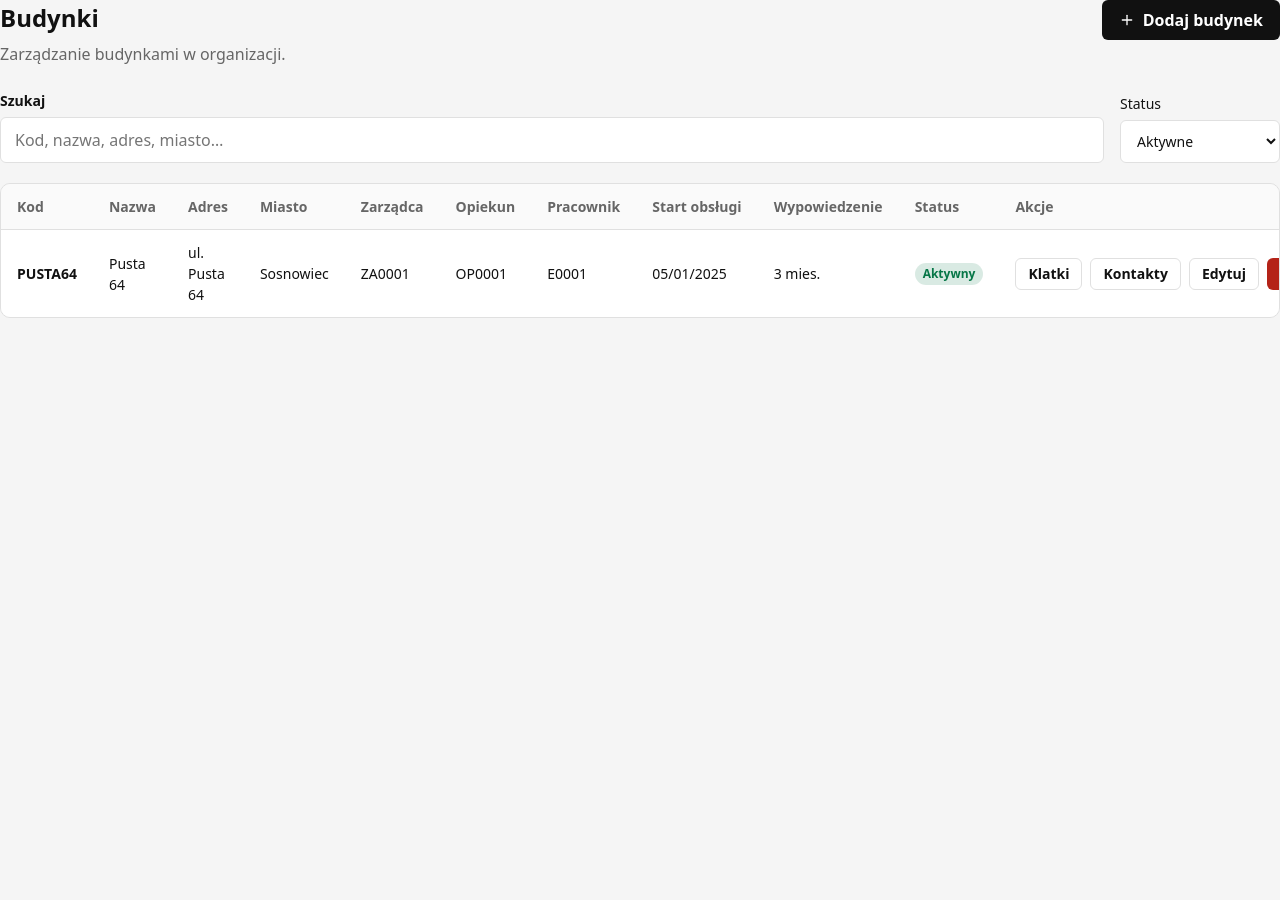
Test: BuildingsPage › validates create form required fields
Expected: the text "PUSTA64" is shown, [1,230,93,317]
Click the button "Dodaj budynek": (1191, 20) [1102,0,1279,40]
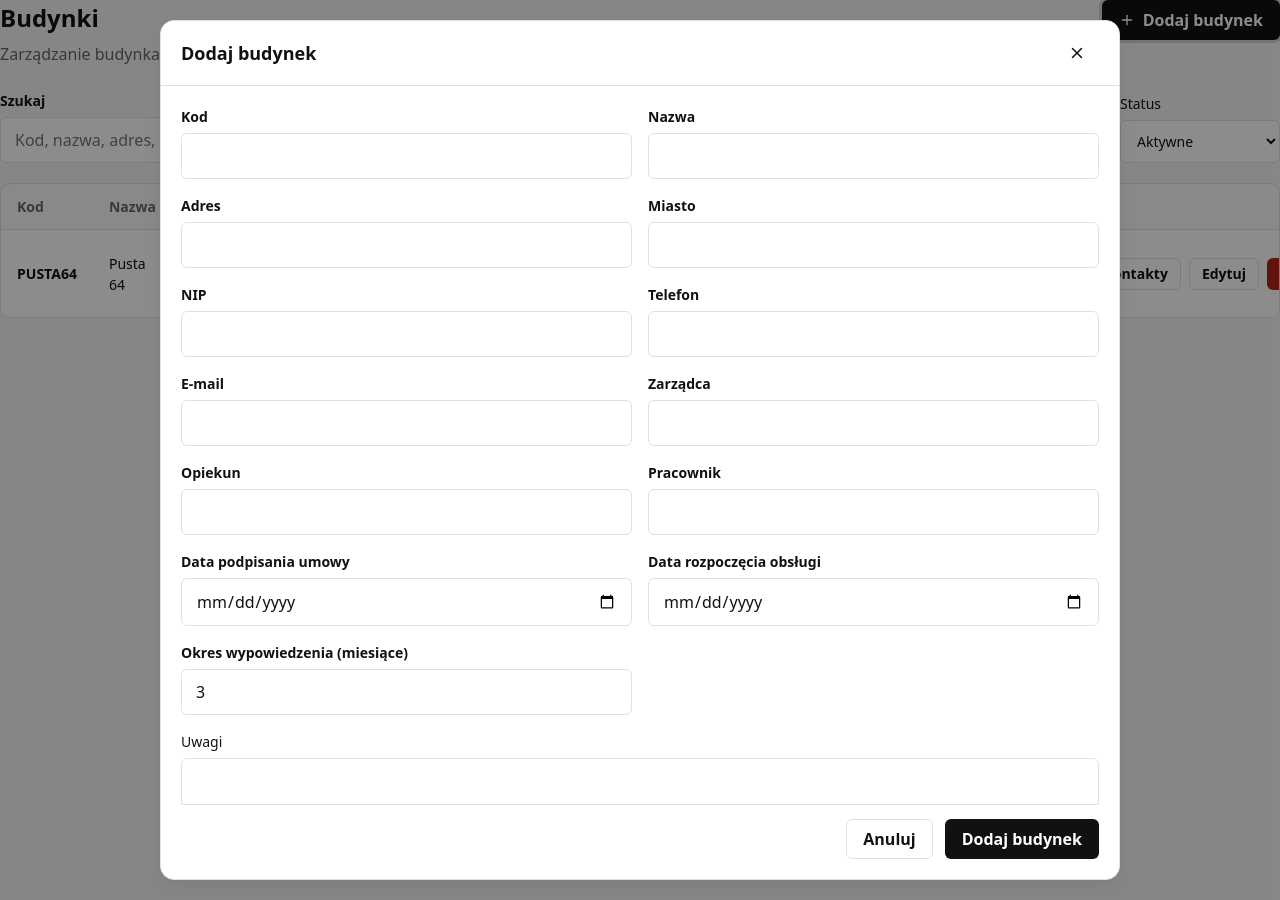
Click the button "Dodaj budynek": (1022, 839) [945,819,1099,859]
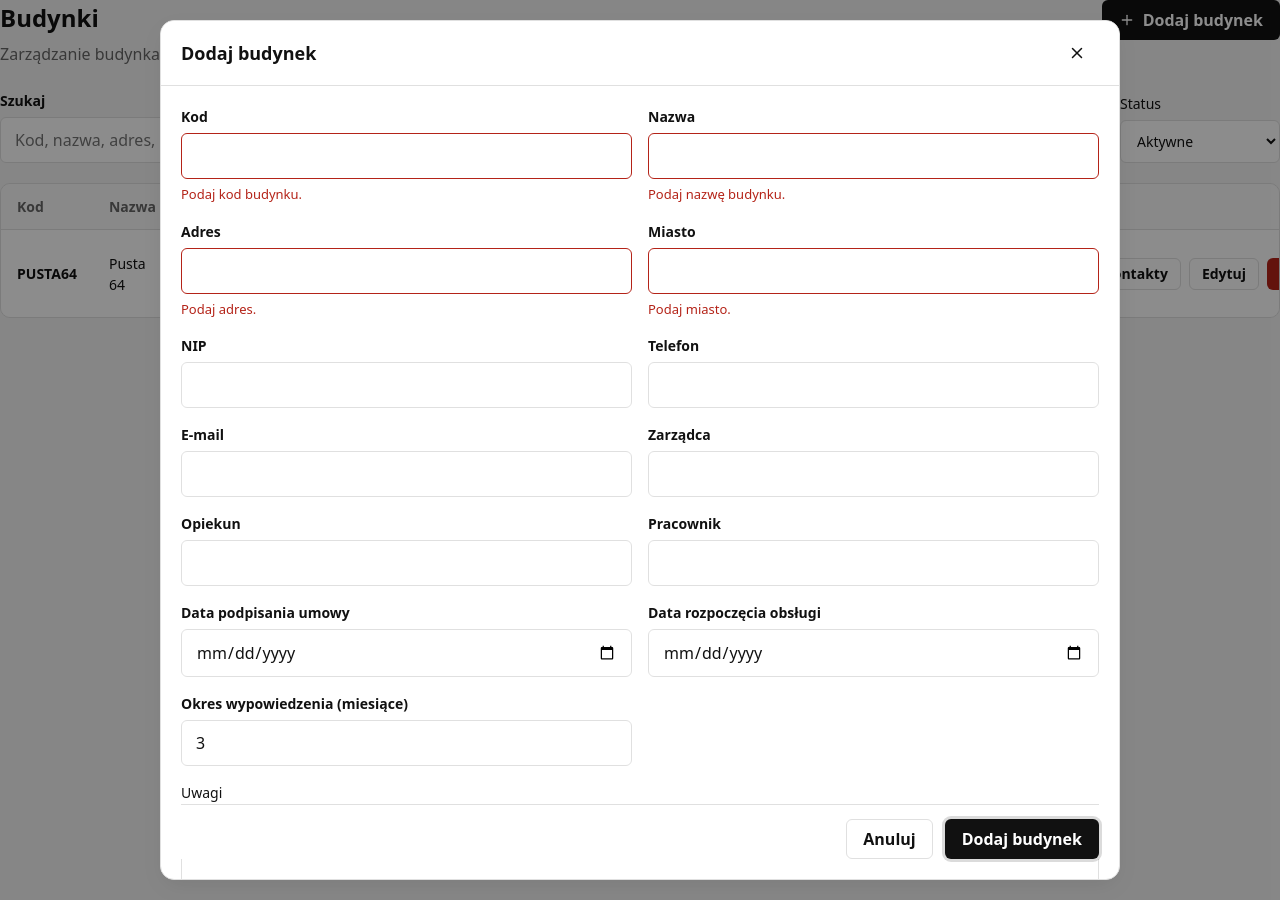
Expected: the text "Podaj kod budynku." is shown, [181,185,302,203]
Expected: the text "Podaj nazwę budynku." is shown, [648,185,785,203]
Expected: the text "Podaj adres." is shown, [181,300,256,318]
